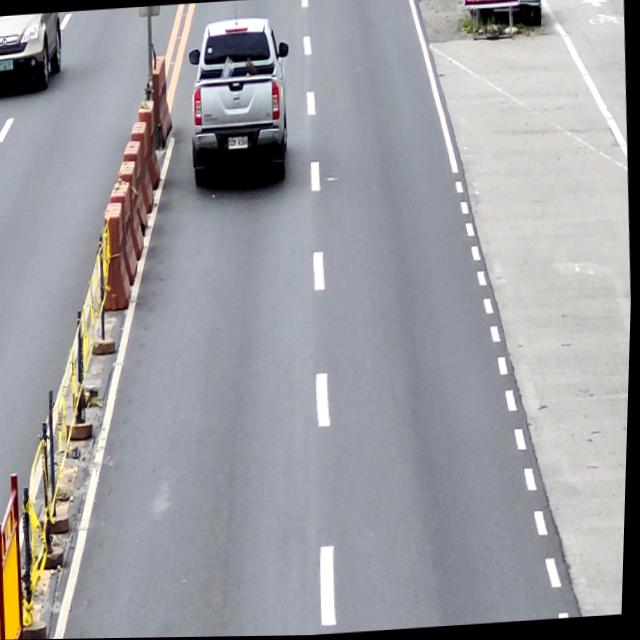Car: (183, 15, 297, 193)
License-Plate: (228, 136, 250, 150)
